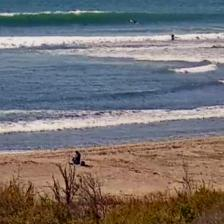surfer: (129, 19, 138, 24), (170, 34, 176, 41)
